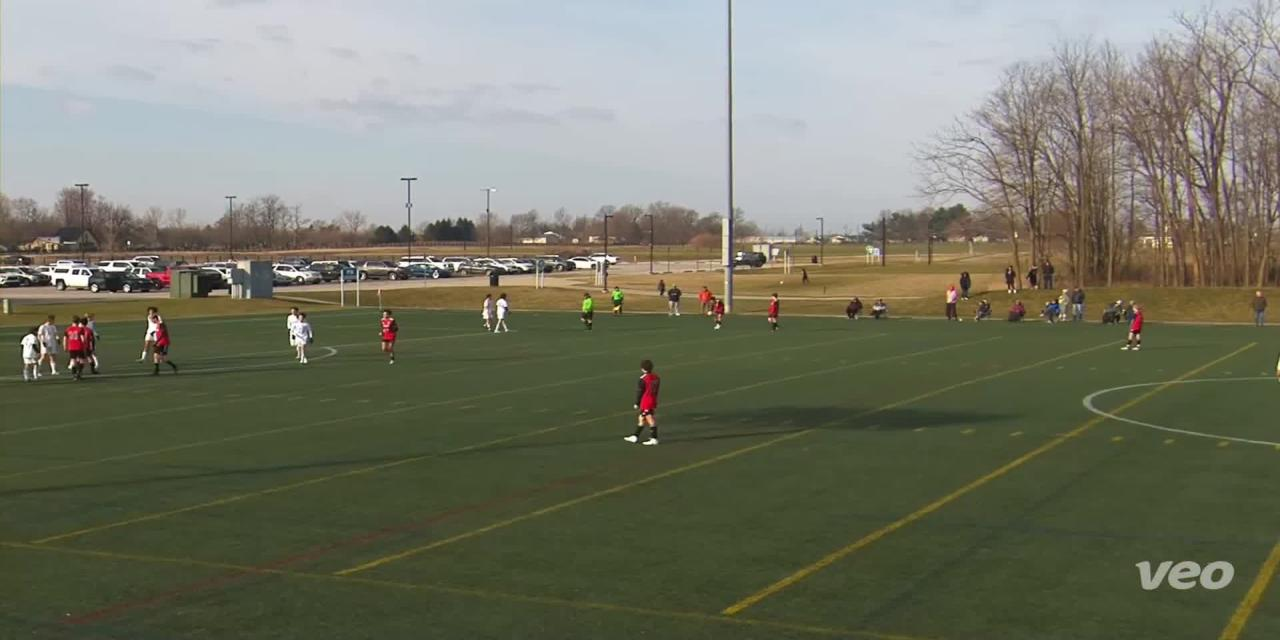sports ball: (706, 309, 716, 321)
